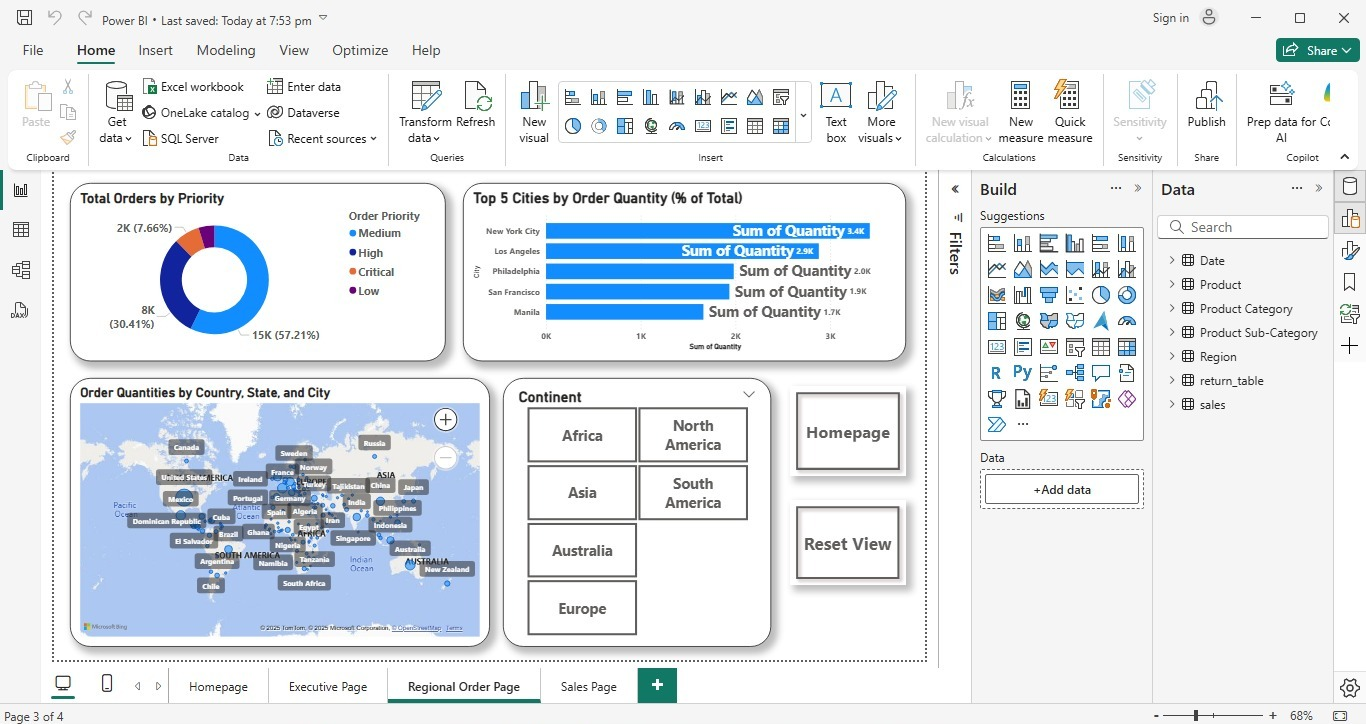

What the dashboard file says about the page in this screenshot:
{"tool":"powerbi","page":{"name":"Regional Order Page","canvas":[1280,720],"ordinal":2},"visuals":[{"type":"donutChart","title":"Total Orders by Priority","fields":{"Y":["sales.Total Orders"],"Category":["sales.Order Priority"]},"box":[23.5,19.1,552.5,261.6],"z":0},{"type":"map","title":"Order Quantities by Country, State, and City","fields":{"Category":["sales.Country","sales.State","sales.City"],"Size":["Sum(sales.Quantity)"]},"box":[23.5,305.6,617.1,395.3],"z":1000},{"type":"clusteredBarChart","title":"Top 5 Cities by Order Quantity (% of Total)","fields":{"Category":["sales.City"],"Y":["Sum(sales.Quantity)"]},"box":[601,19.1,650.9,261.6],"z":2000},{"type":"slicer","fields":{"Values":["sales.Continent"]},"box":[659.8,305.6,393.8,395.3],"z":3000},{"type":"actionButton","box":[1081.5,317.4,170.4,132.2],"z":4000},{"type":"actionButton","box":[1081.6,484.5,169.8,125.1],"z":5000}]}

Visuals, with their boxes on the page's 1280x720 design canvas (x1, y1, x2, y2). These are canvas units, not pixel positions in the 1366x724 screenshot, which may show the page scaled, cropped or inside an application window:
"Total Orders by Priority" donutChart: crop(24, 19, 576, 281)
"Order Quantities by Country, State, and City" map: crop(24, 306, 641, 701)
"Top 5 Cities by Order Quantity (% of Total)" clusteredBarChart: crop(601, 19, 1252, 281)
slicer - sales.Continent: crop(660, 306, 1054, 701)
actionButton: crop(1082, 317, 1252, 450)
actionButton: crop(1082, 484, 1251, 610)
